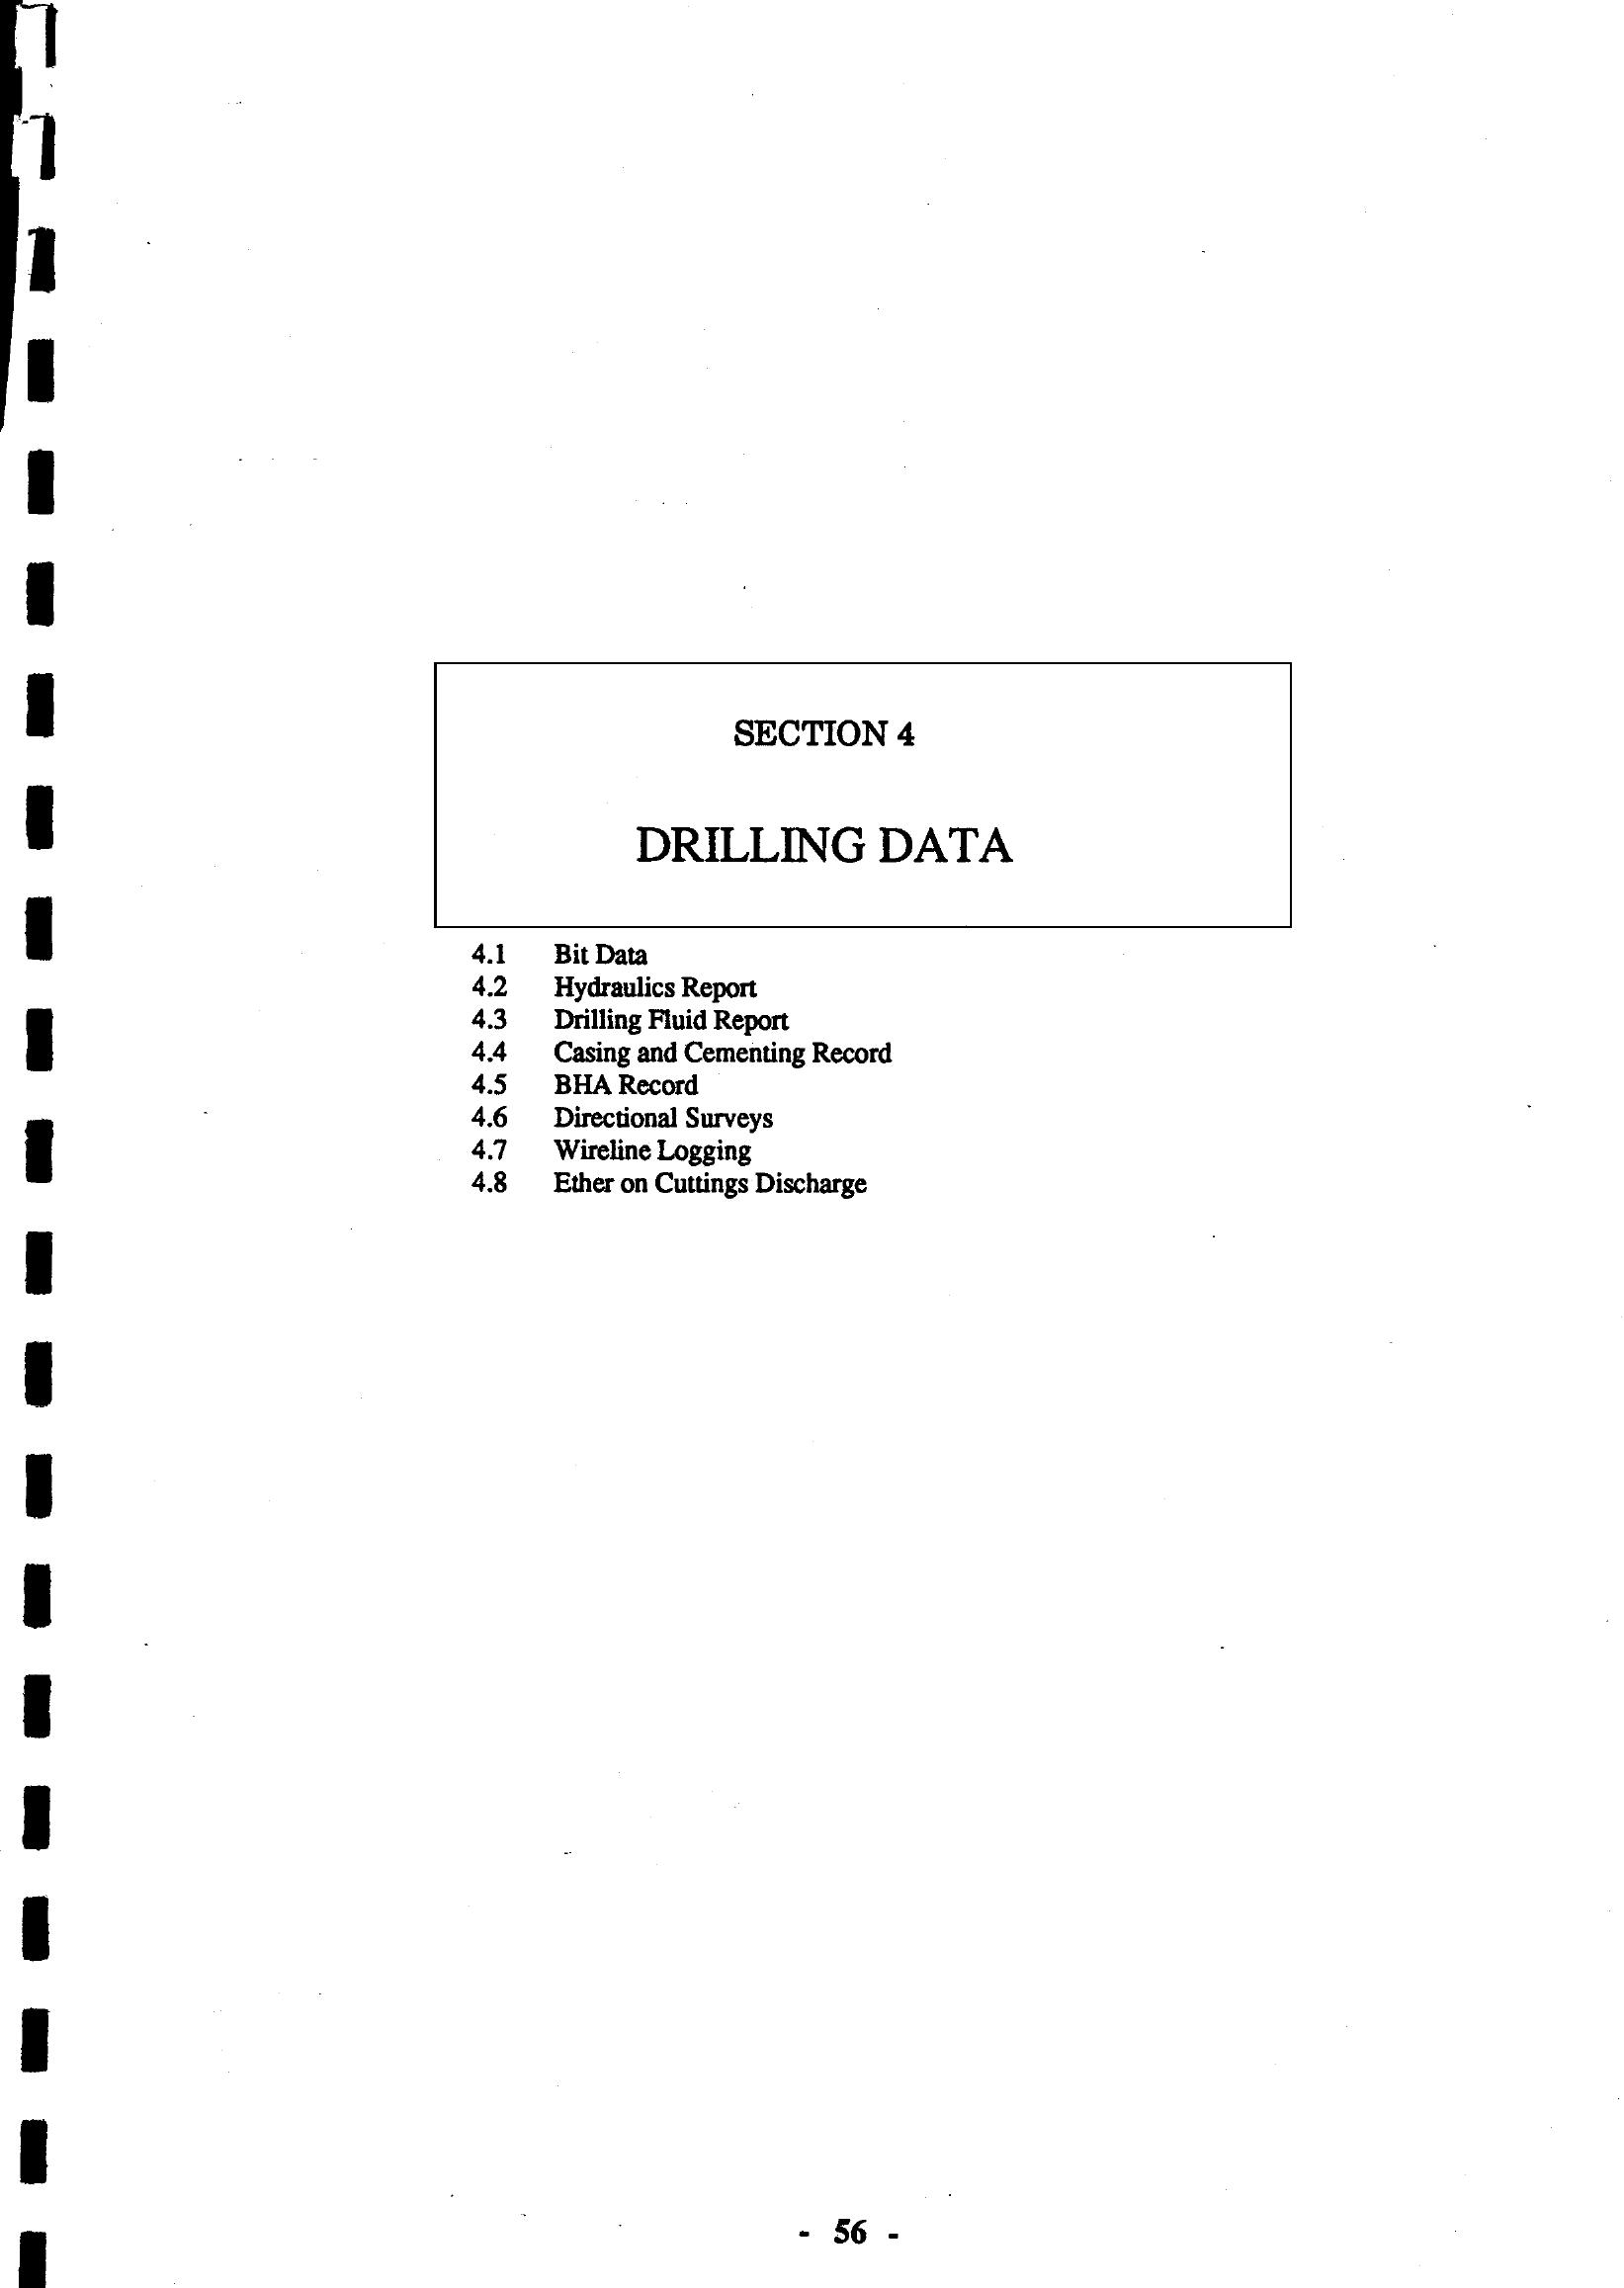text: (344, 596, 1417, 1262)
